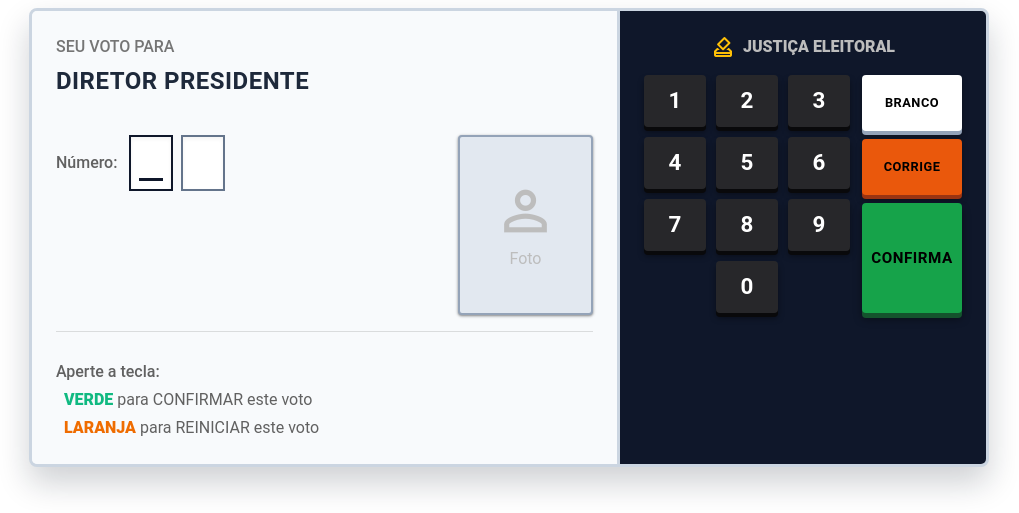
Test case: VirtualBallotBox Component › types candidate number and displays candidate name and photo
The width and height of the screenshot is (1019, 513).
Click the button with class "key-num" showing "1" at (675, 101), box [644,75,706,127]
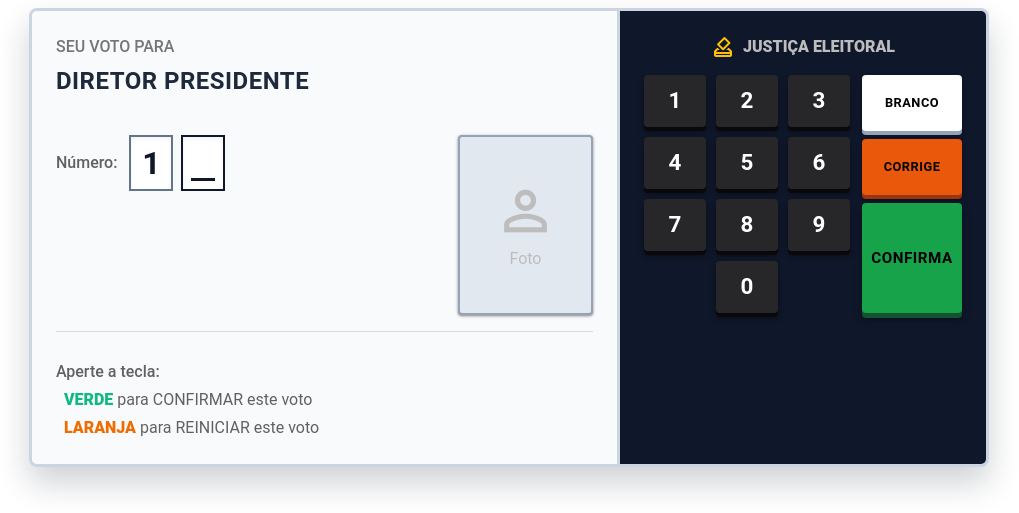
Click the button with class "key-num" showing "0" at (747, 287), box [716,261,778,313]
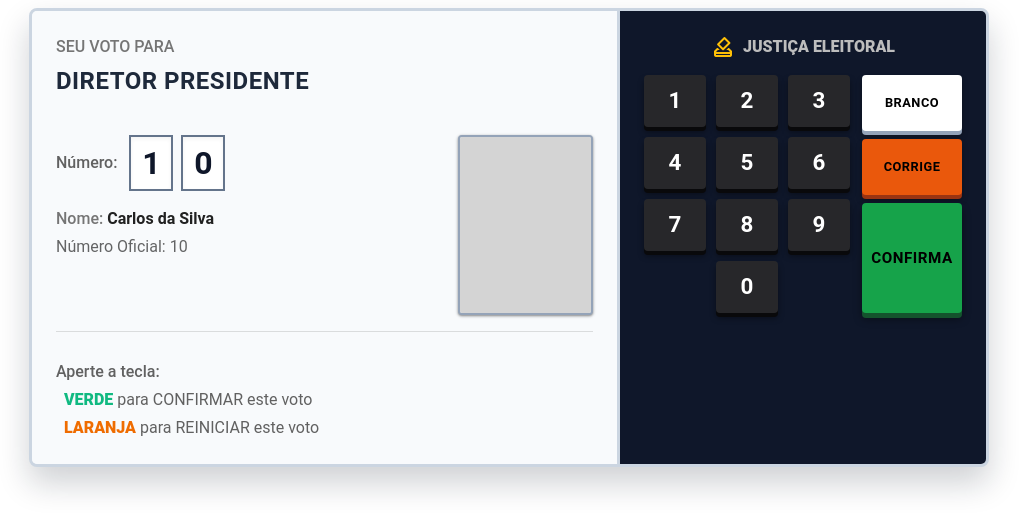
Result: the text "Carlos da Silva" is shown at [107,209,214,228]
